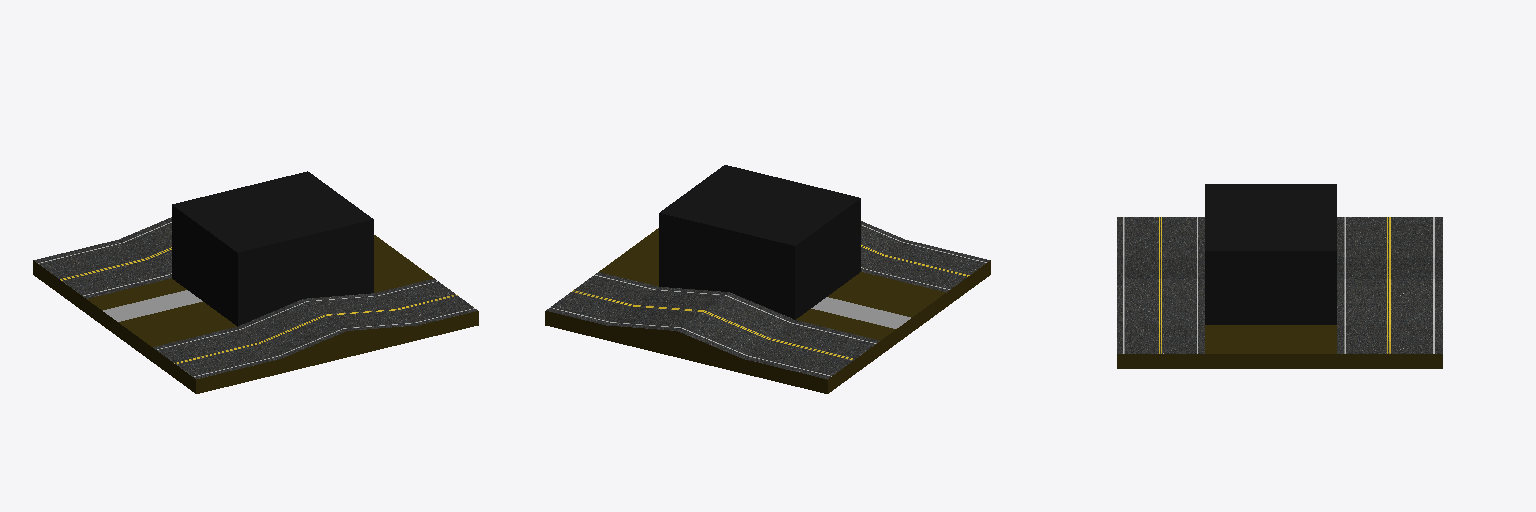
3 views of the same model, side by side, from view 1: azimuth 30°, elevation 25°; view 2: azimuth 150°, elevation 25°; view 3: azimuth 270°, elevation 25° (orthographic).
Parts seen in each view (by area): view 1: Cube.002; view 2: Cube.002; view 3: Cube.002.
Boxes of the visible parts, box(x1,y1,x2,y2) form: Cube.002: box(33, 171, 478, 393); Cube.002: box(545, 165, 990, 393); Cube.002: box(1117, 184, 1442, 368).
Bounding box in the file's own units: 400 × 120 × 400.
Materials: 8 (1 with a texture image).